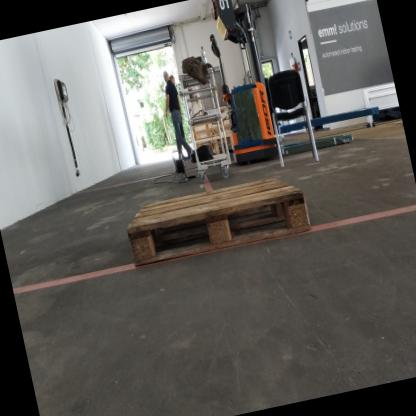BoxFace: (123, 172, 313, 270)
